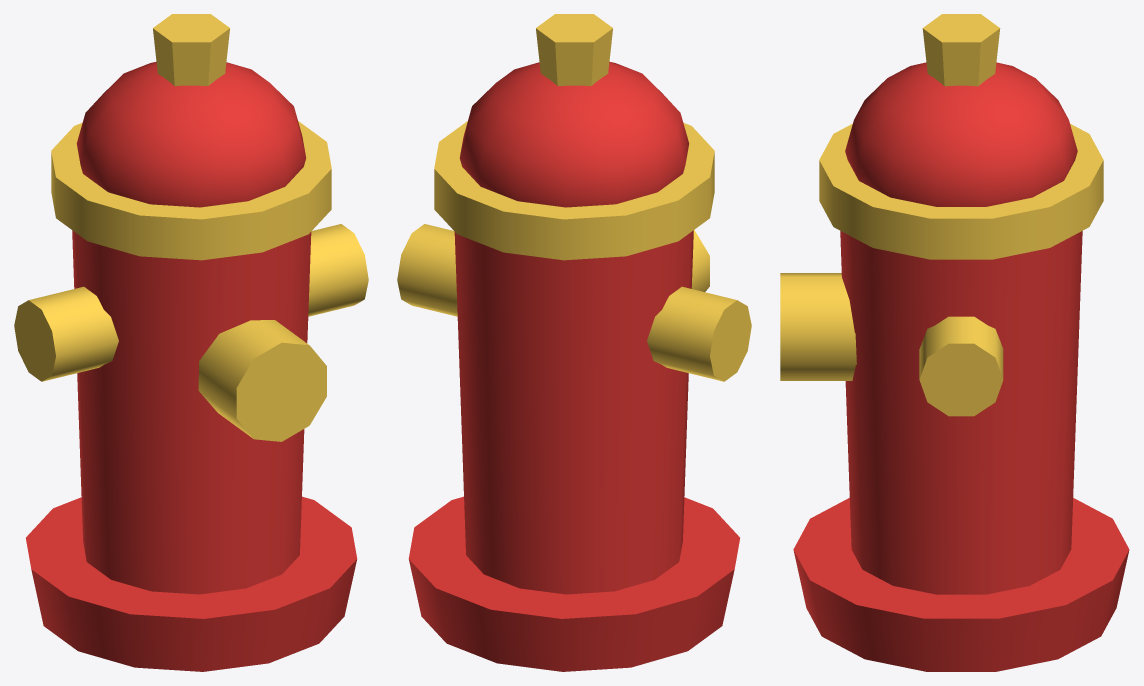
File: streets_hydrant.glb
The picture shows the model from 3 angles, left to right: view 1: azimuth 30°, elevation 25°; view 2: azimuth 150°, elevation 25°; view 3: azimuth 270°, elevation 25°; orthographic projection.
Visible parts, largest first — view 1: Hydrant_body; view 2: Hydrant_body; view 3: Hydrant_body.
Boxes of the visible parts, x1,y1,x2,y2 form: Hydrant_body: (14,14,368,671); Hydrant_body: (397,14,751,671); Hydrant_body: (780,14,1129,671).
Size of the model in its own units: 0.56 by 0.99 by 0.54.
